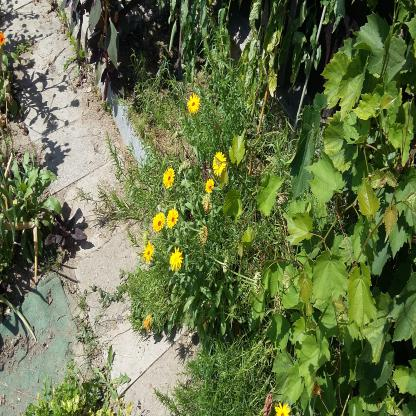marigold: (211, 150, 228, 179), (169, 245, 184, 272), (166, 204, 179, 230), (141, 239, 154, 265), (161, 166, 175, 189), (151, 211, 165, 233), (186, 93, 200, 113), (273, 401, 290, 416), (204, 177, 214, 196)
